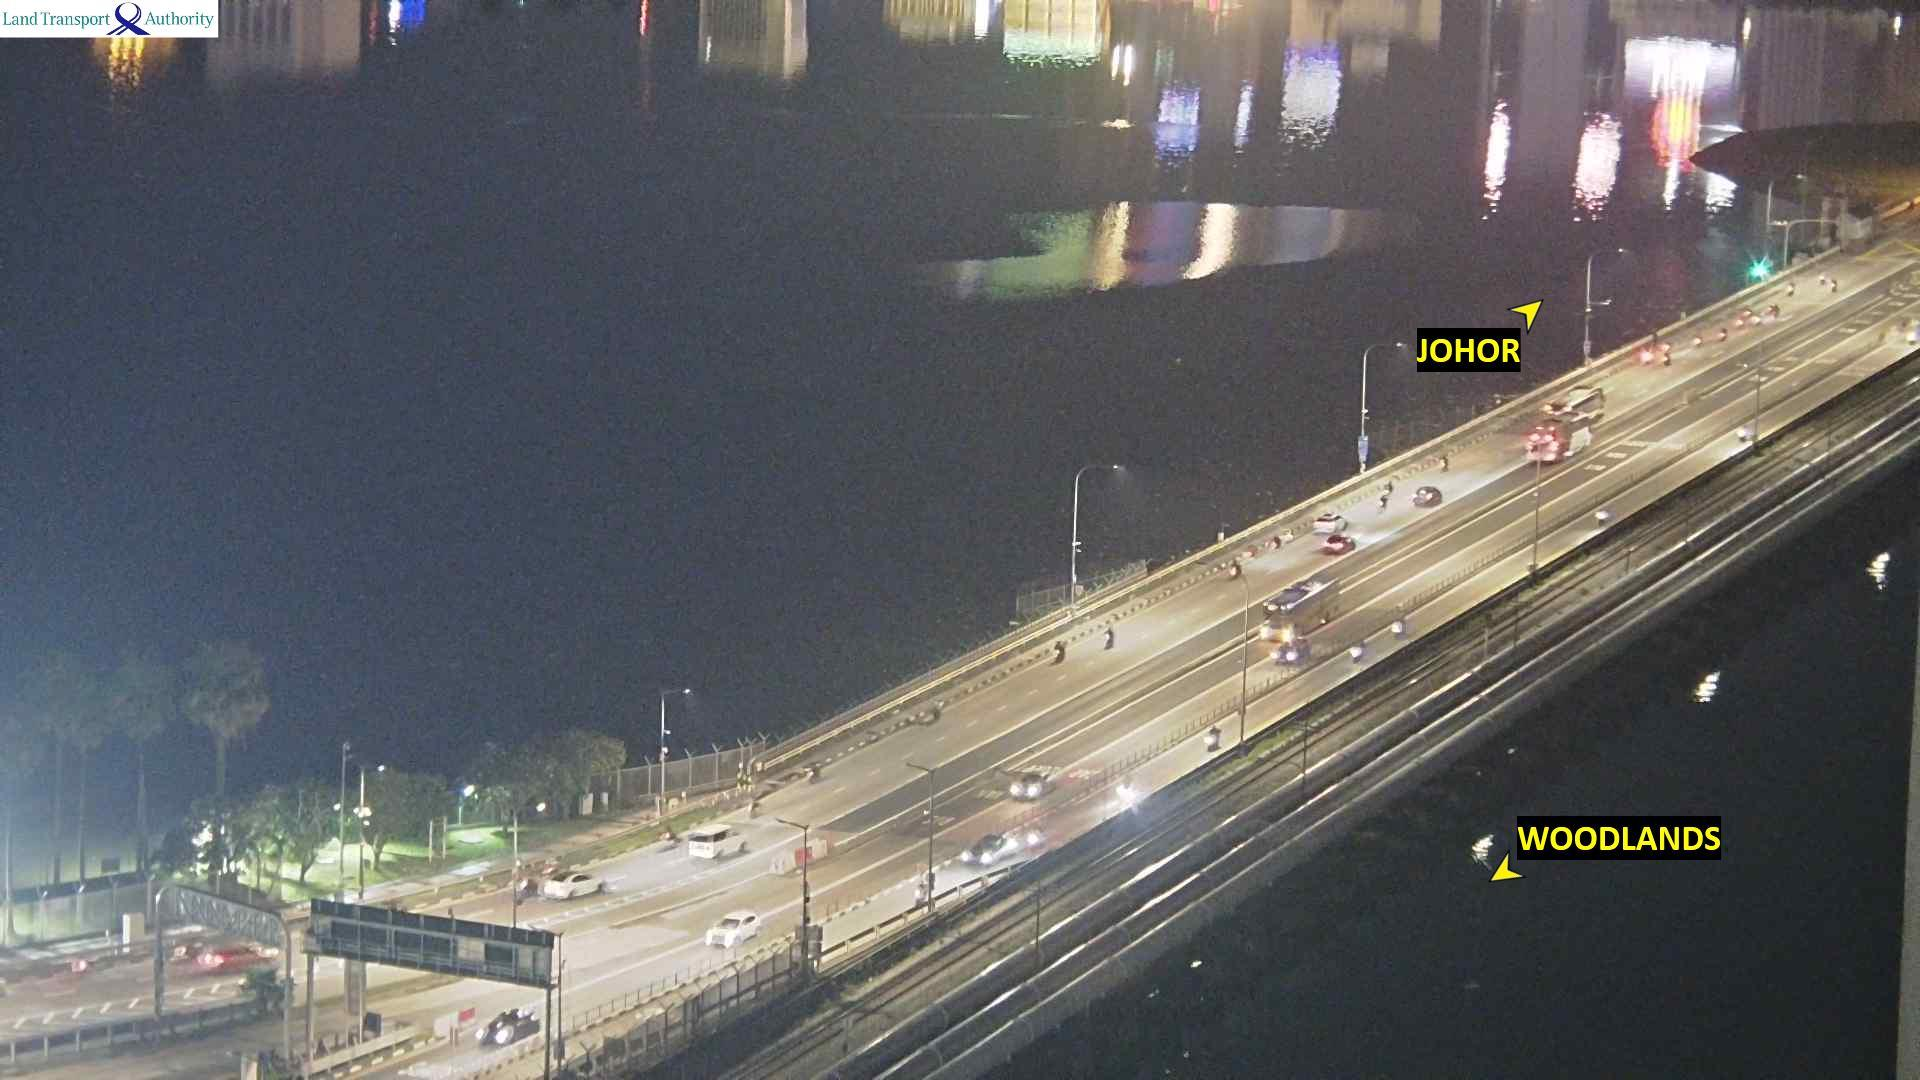vehicle-causeway-johor: (537, 874, 606, 902), (686, 828, 747, 859), (205, 945, 270, 966), (1548, 397, 1604, 421), (1528, 423, 1562, 455), (1324, 532, 1358, 554), (1412, 485, 1437, 506), (1320, 514, 1345, 535), (1738, 307, 1757, 327), (1231, 563, 1247, 581), (1053, 638, 1064, 662), (1103, 625, 1112, 652), (1689, 334, 1702, 351), (1767, 302, 1778, 321), (1718, 323, 1727, 342), (1660, 353, 1670, 366), (1832, 279, 1838, 295), (1441, 454, 1447, 469), (1787, 282, 1793, 294), (1384, 482, 1391, 492), (1381, 501, 1386, 512)
vehicle-causeway-singapore: (1260, 577, 1338, 636), (710, 912, 764, 946), (1010, 766, 1052, 804), (962, 835, 1005, 865), (484, 1017, 515, 1046), (1264, 640, 1303, 662), (1203, 725, 1223, 754), (1349, 638, 1370, 665), (1391, 616, 1406, 638), (1595, 507, 1610, 526), (1734, 424, 1747, 440)
